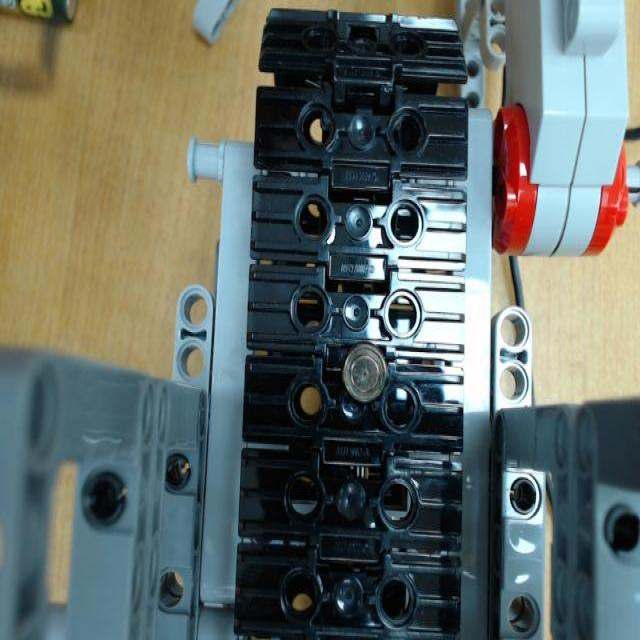COIN: (341, 342, 389, 403)
